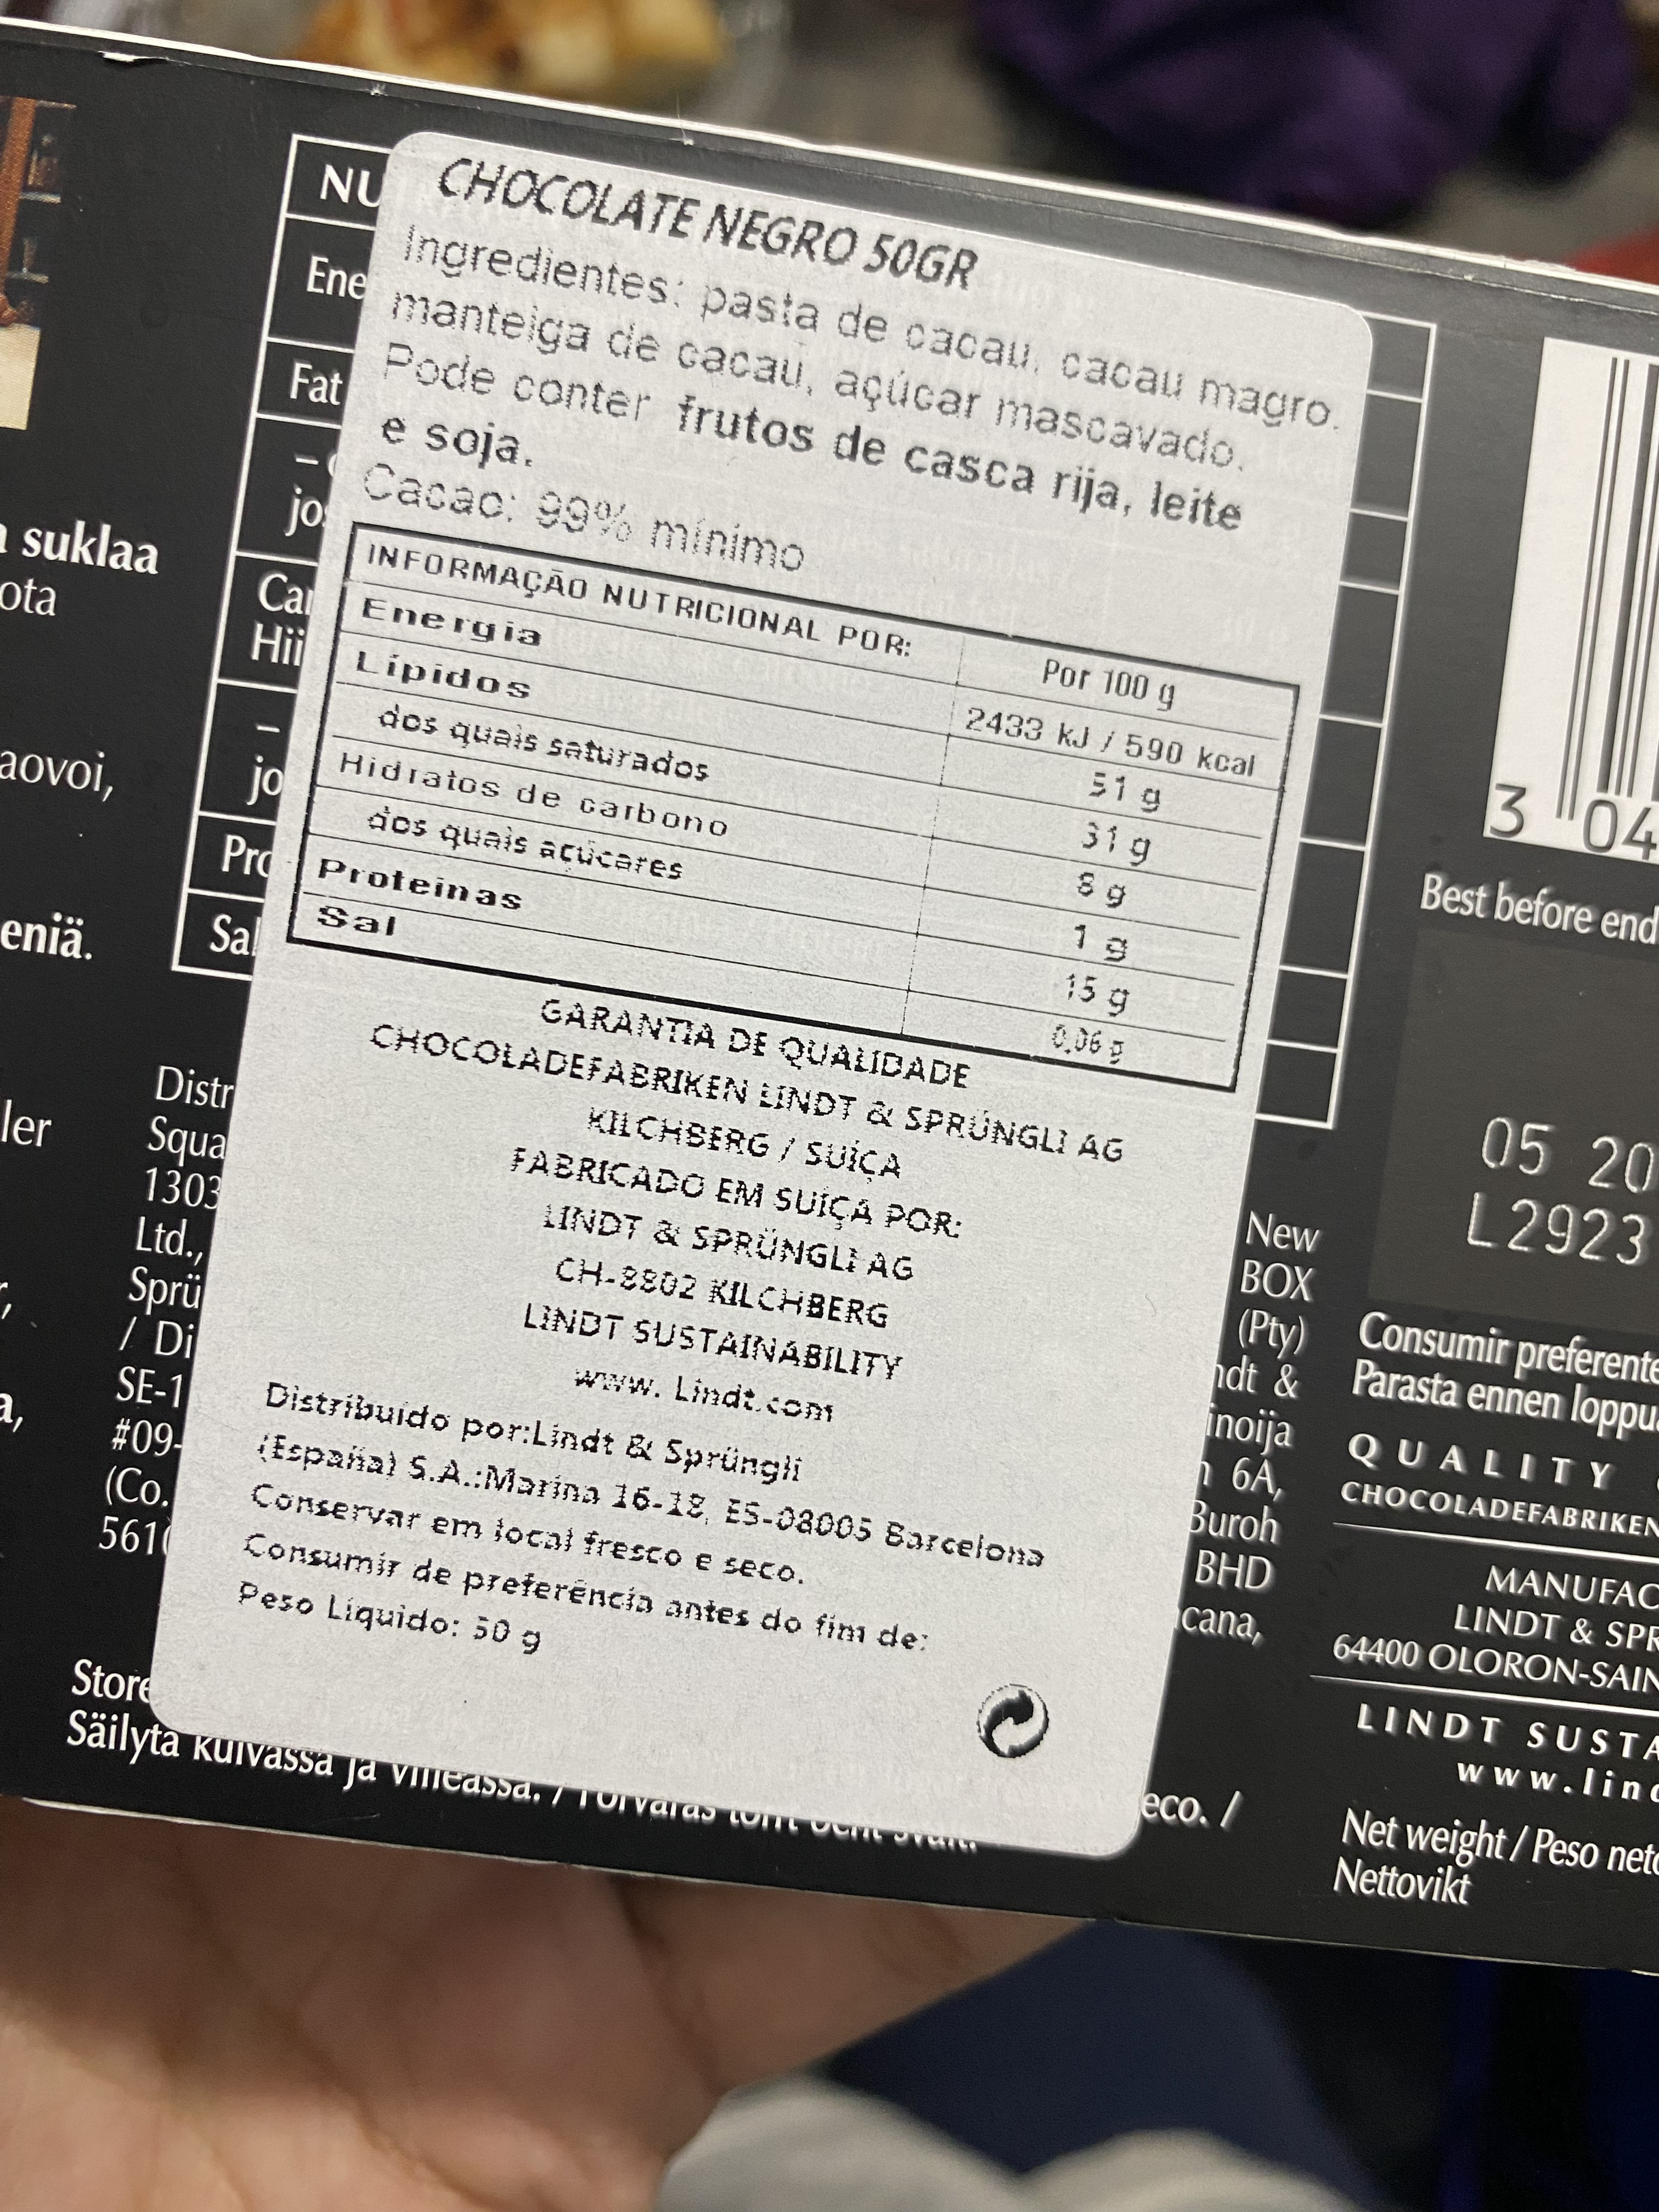table: (277, 503, 1310, 1113)
